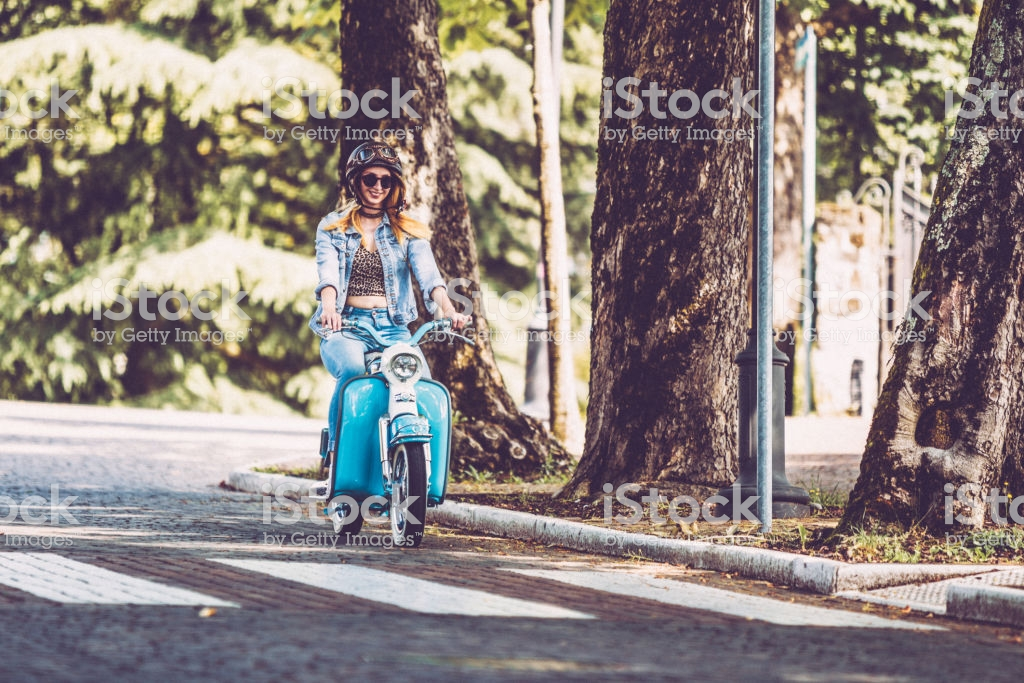helmet: (337, 135, 405, 181)
